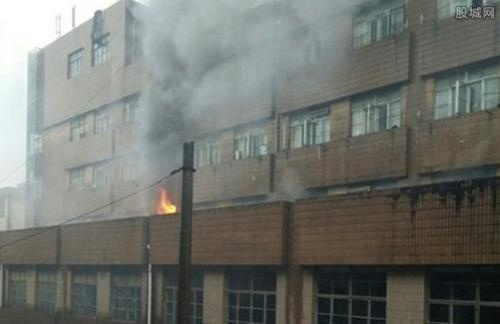fire: (154, 186, 179, 213)
